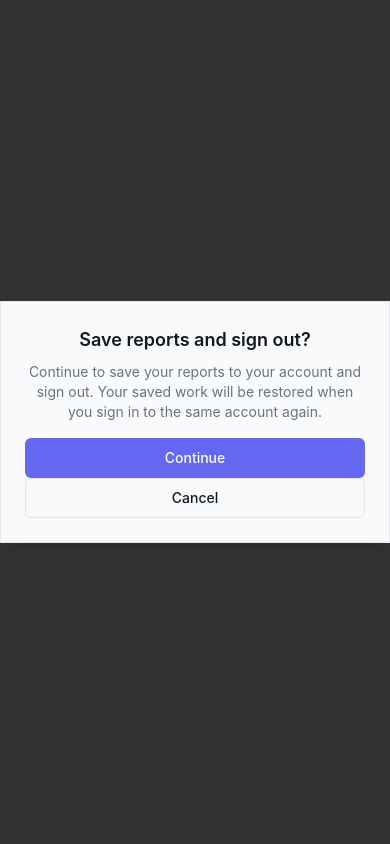
Test: sign-out decisions › Continue runs saving and reports a failure without closing
This screenshot has width=390, height=844.
Click the button "Continue": (195, 458) [25,438,365,478]
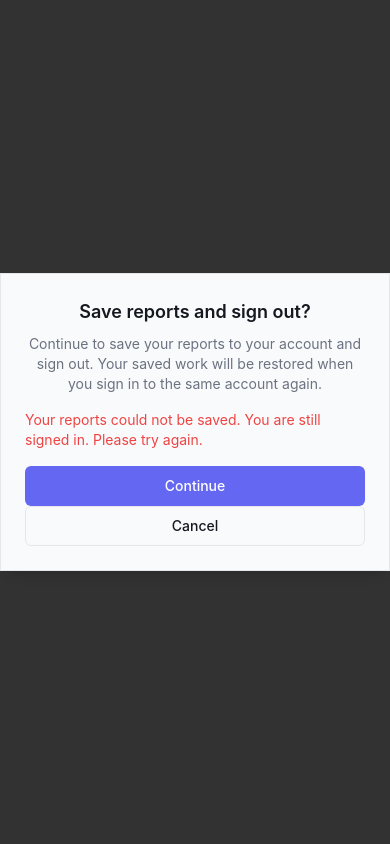
Expected: the message "Your reports could not be saved. You are still signed in. Please try again." is shown, [25,410,365,450]
